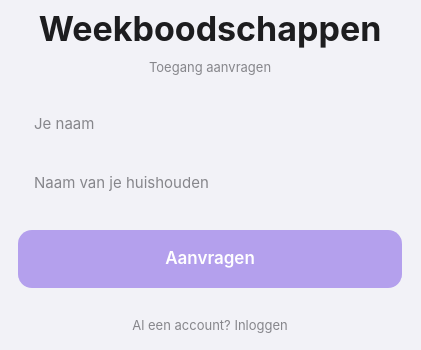
Test: Register page › submits registration and transitions to passkey step
The width and height of the screenshot is (421, 350).
Type "Test User" into the field with placeholder "Je naam" at {"x": 210, "y": 124}, box [18,101,402,148]
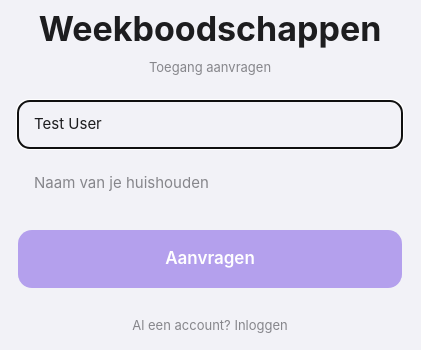
Type "Test HH" into the field with placeholder "Naam van je huishouden" at {"x": 210, "y": 183}, box [18,160,402,206]
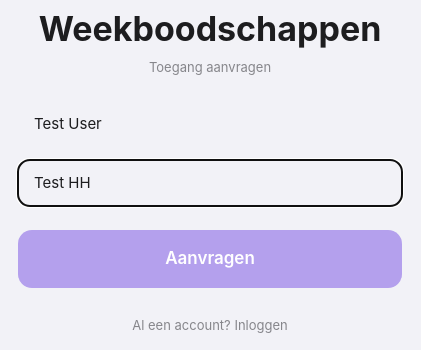
Click the button "Aanvragen" at {"x": 210, "y": 259}, box [18,230,402,288]
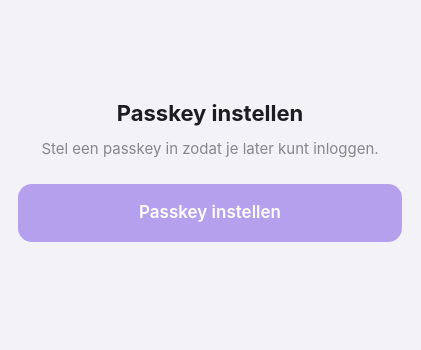
expect the heading "Passkey instellen" is shown: met, box [117,100,303,126]
